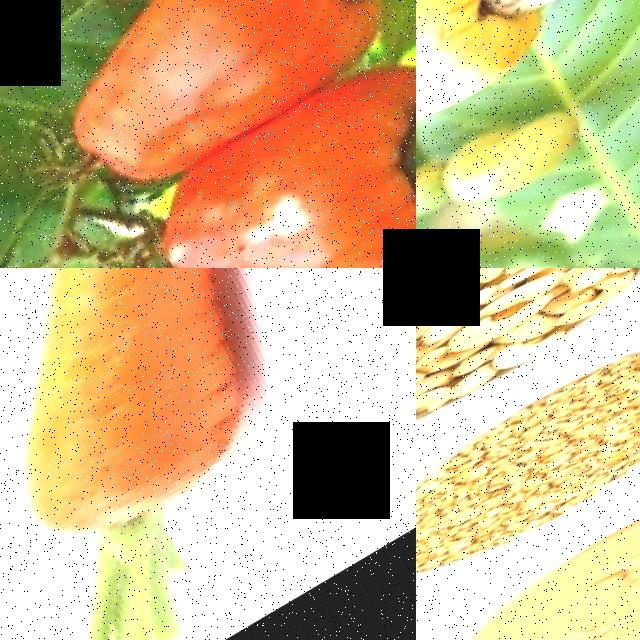carrot: (0, 268, 416, 640)
cashew: (432, 285, 565, 377), (454, 0, 627, 61), (372, 49, 416, 220), (269, 0, 416, 50), (546, 277, 635, 344), (485, 320, 571, 384), (416, 380, 457, 450), (416, 277, 451, 353)
